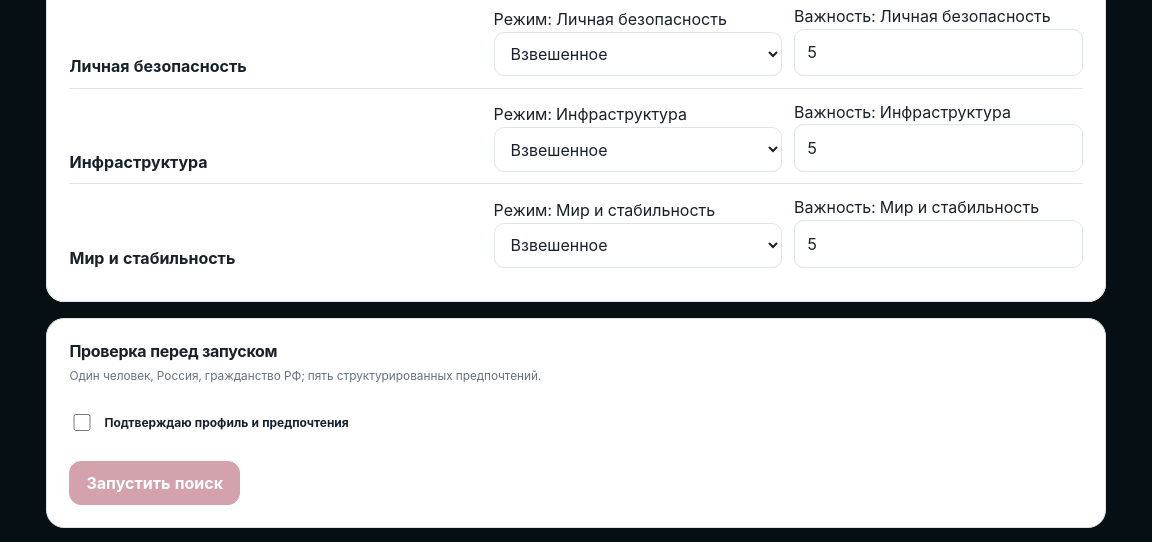
place-frontier setup › updates the confirmation summary when a companion is added and removed
The width and height of the screenshot is (1152, 542).
(page scrolled)
Check: the text "Один человек, Россия" is shown, box top-left (70, 369), bottom-right (541, 383)
Step 1. Click the checkbox labelled "Подтверждаю профиль и предпочтения" → x=82, y=423, box top-left (74, 414), bottom-right (91, 431)
(page scrolled)
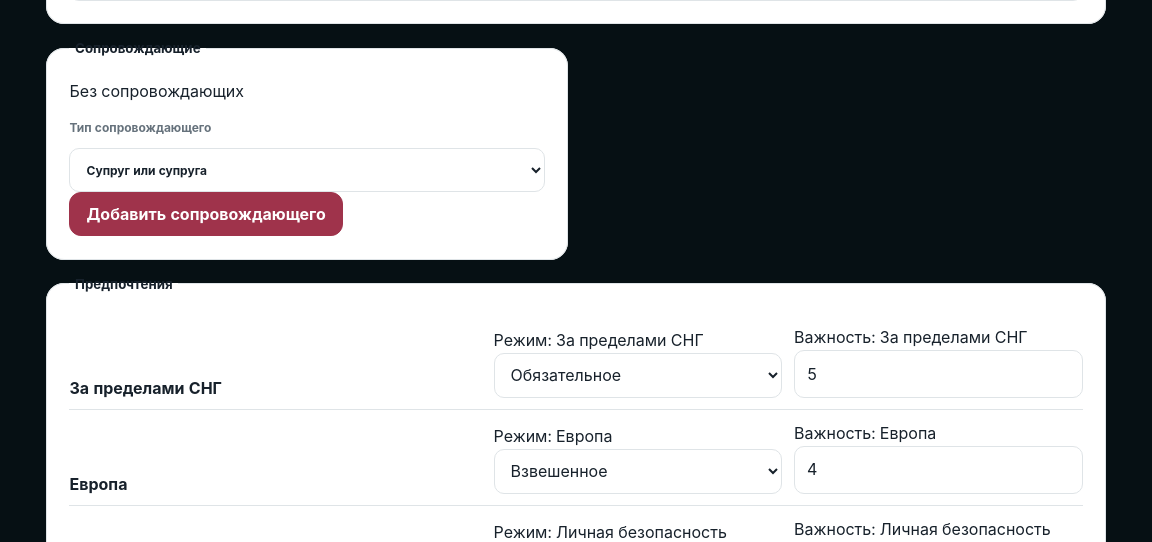
Step 2. Click the button "Добавить сопровождающего" → x=206, y=214, box top-left (70, 192), bottom-right (343, 236)
(page scrolled)
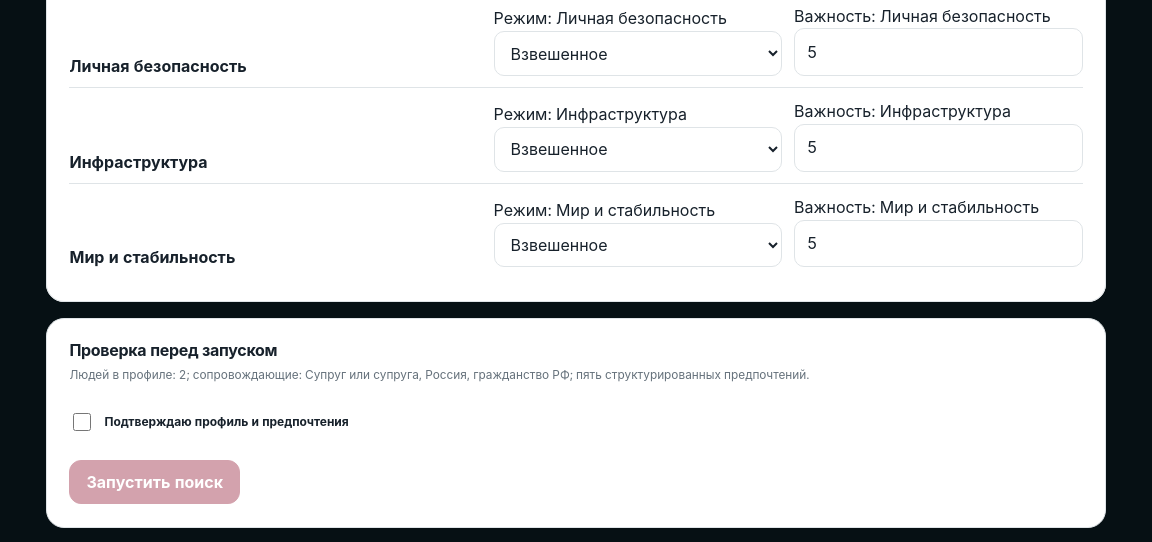
Check: the checkbox labelled "Подтверждаю профиль и предпочтения" is not checked
Check: the text "Людей в профиле: 2; сопровождающие: Супруг или супруга, Россия" is shown, box top-left (70, 368), bottom-right (810, 382)
Step 3. Click the checkbox labelled "Подтверждаю профиль и предпочтения" → x=82, y=422, box top-left (74, 413), bottom-right (91, 431)
(page scrolled)
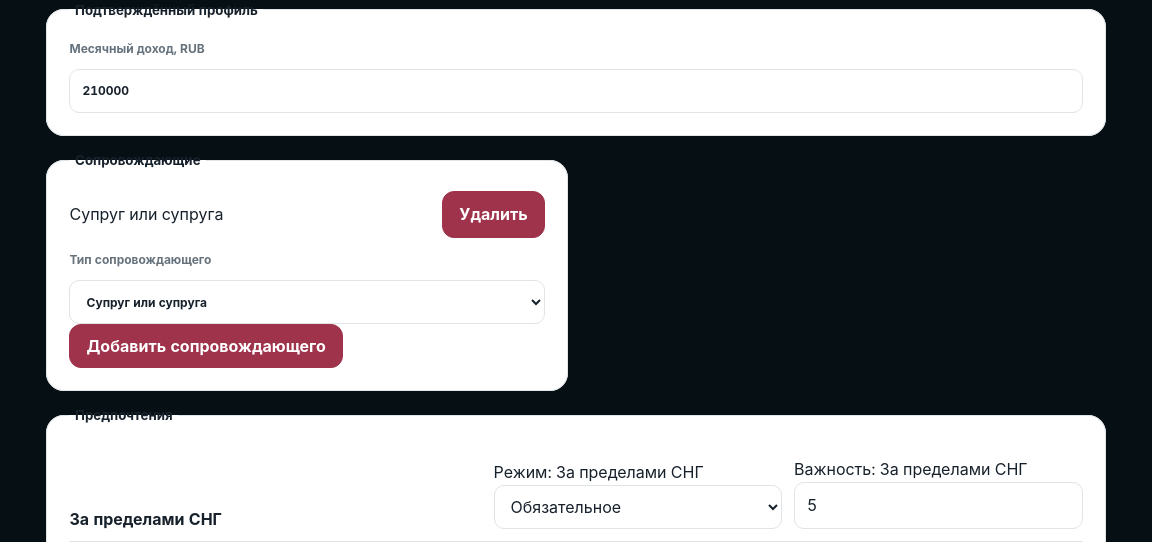
Step 4. Click the button "Удалить" → x=493, y=214, box top-left (442, 191), bottom-right (545, 238)
(page scrolled)
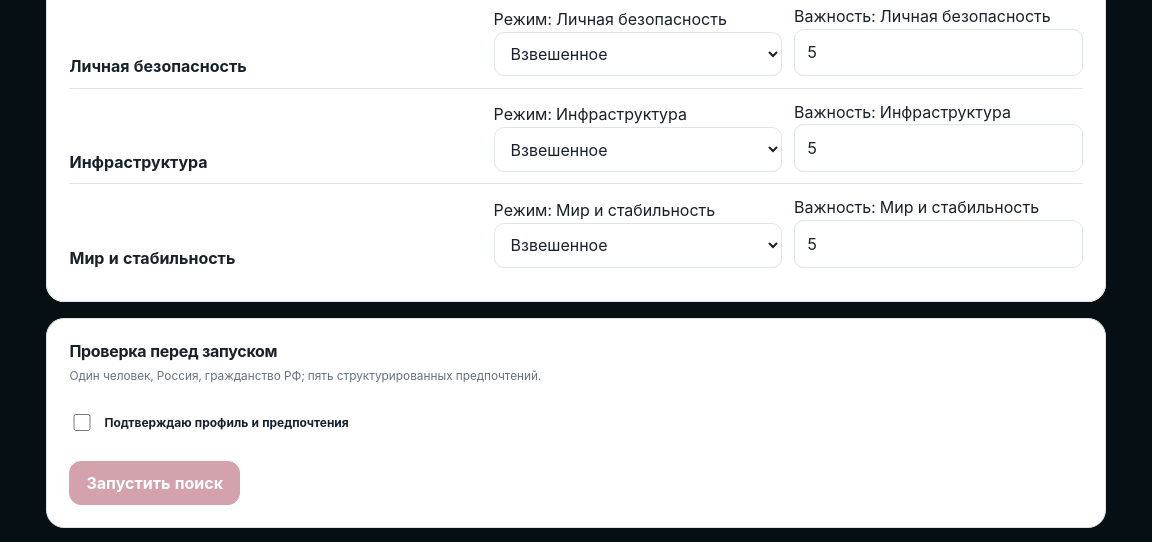
Check: the checkbox labelled "Подтверждаю профиль и предпочтения" is not checked, box top-left (74, 414), bottom-right (91, 431)
Check: the text "Один человек, Россия" is shown, box top-left (70, 369), bottom-right (541, 383)
